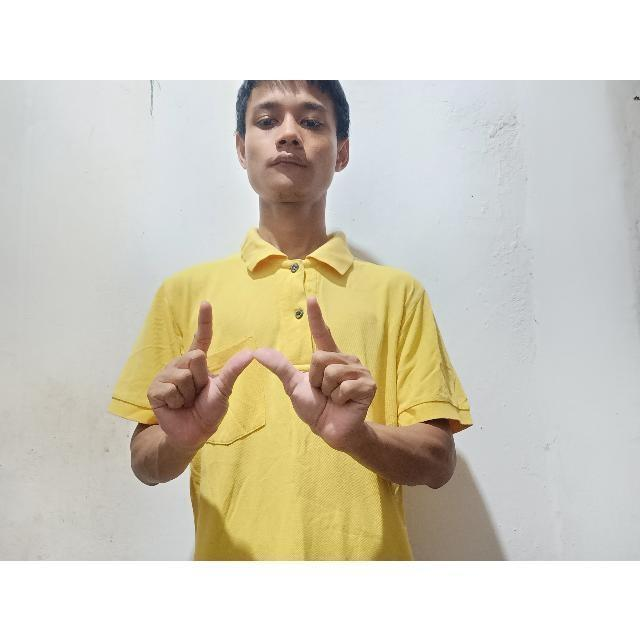W: (144, 294, 376, 458)
